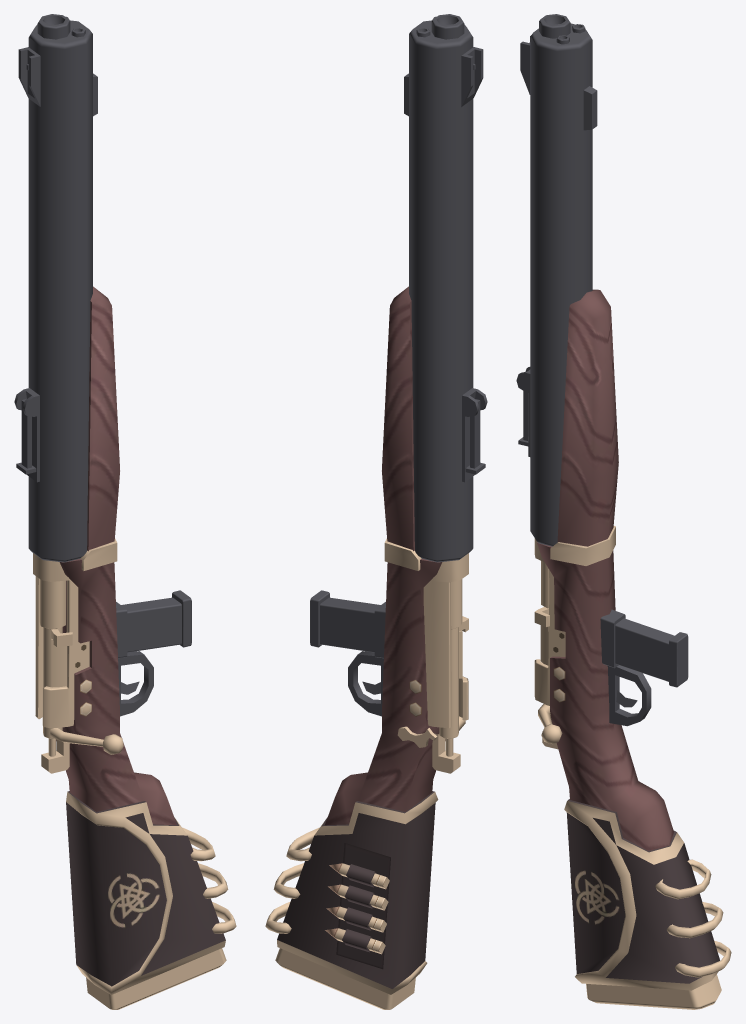
File: Ui_Weapon.fbx
3 views of the same model, side by side, from view 1: azimuth 30°, elevation 25°; view 2: azimuth 150°, elevation 25°; view 3: azimuth 330°, elevation 25° (orthographic). The views are drawn at different scales.
Parts seen in each view (by area): view 1: CH0619_Weapon; view 2: CH0619_Weapon; view 3: CH0619_Weapon.
Part boxes in pixels (x1=…): CH0619_Weapon: x1=14, y1=14, x2=236, y2=1009; CH0619_Weapon: x1=265, y1=14, x2=487, y2=1009; CH0619_Weapon: x1=516, y1=14, x2=731, y2=1009.
Size of the model in its own units: 0.155 by 0.702 by 0.0788.
